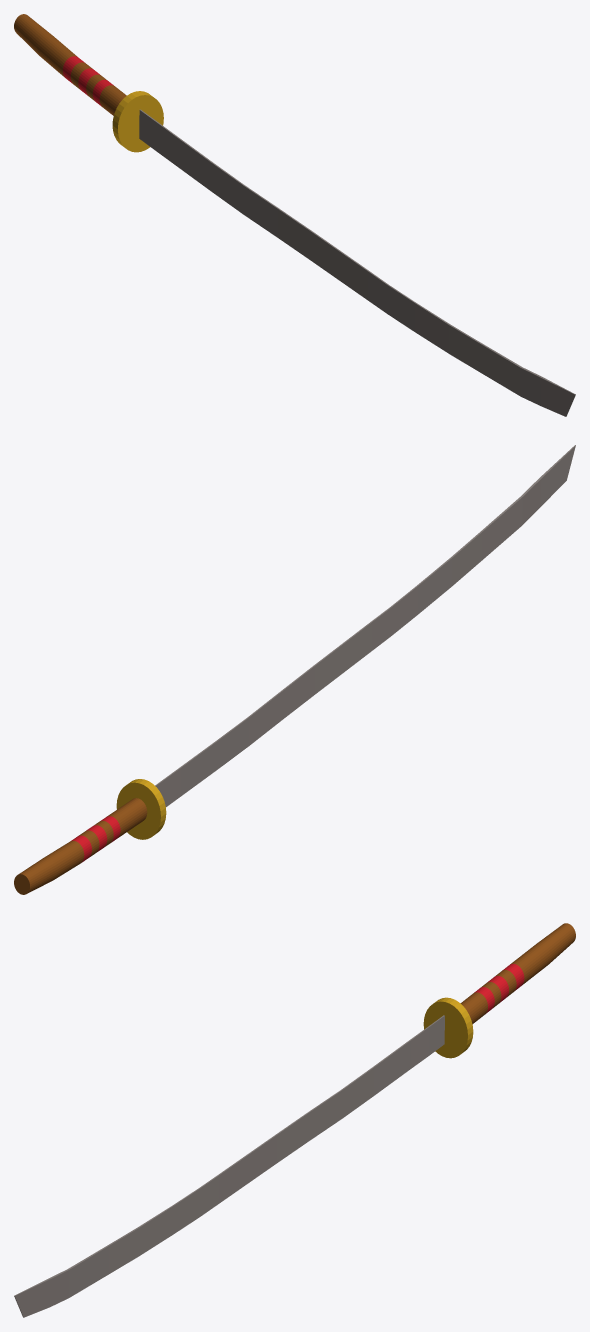
Rendered from Katana.fbx.
3 renders of one model, top to bottom at view 1: azimuth 30°, elevation 25°; view 2: azimuth 150°, elevation 25°; view 3: azimuth 330°, elevation 25°, orthographic.
Visible parts, largest first — view 1: Cube; view 2: Cube; view 3: Cube.
Part boxes in pixels (x1,y1,x2,y2): Cube: (14, 14, 575, 416); Cube: (14, 445, 575, 894); Cube: (14, 923, 575, 1317).
Bounding box in the file's own units: 18.7 × 30.28 × 396.
